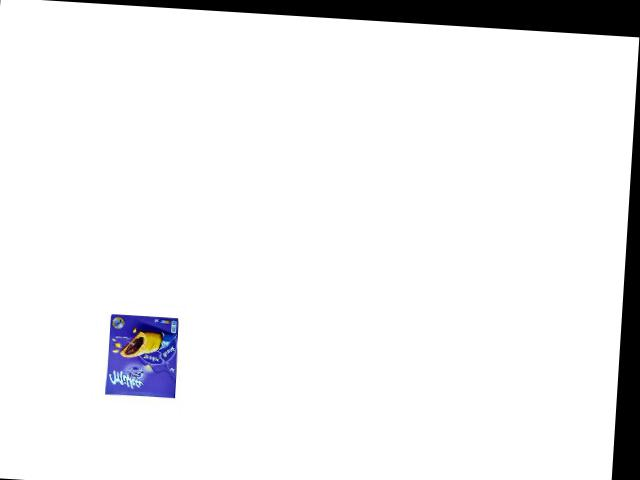chocolate: (100, 308, 183, 403)
